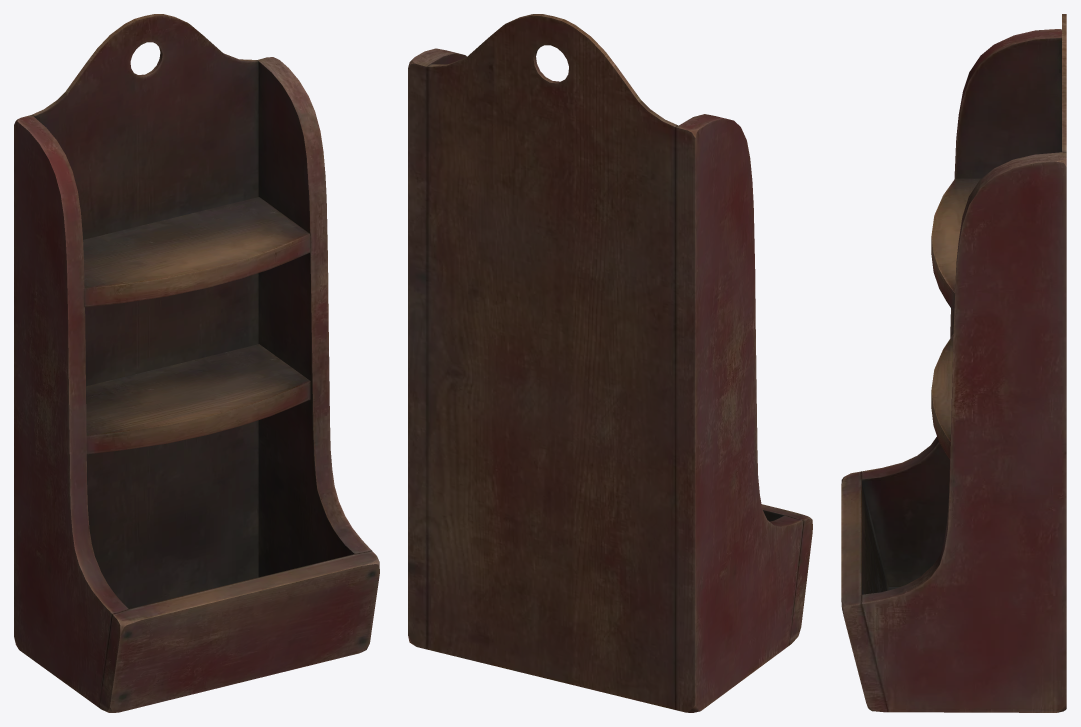
File: polyhaven-painted-wooden-shelves.glb
3 renders of one model, left to right at view 1: azimuth 30°, elevation 25°; view 2: azimuth 150°, elevation 25°; view 3: azimuth 270°, elevation 25°, orthographic. The views are drawn at different scales.
Parts seen in each view (by area): view 1: painted_wooden_shelves; view 2: painted_wooden_shelves; view 3: painted_wooden_shelves.
Boxes of the visible parts, x1,y1,x2,y2 form: painted_wooden_shelves: [14, 14, 379, 712]; painted_wooden_shelves: [408, 14, 812, 712]; painted_wooden_shelves: [841, 14, 1066, 712].
Size of the model in its own units: 0.5111 by 1.13 by 0.3671.
Materials: 1 (1 with a texture image).
